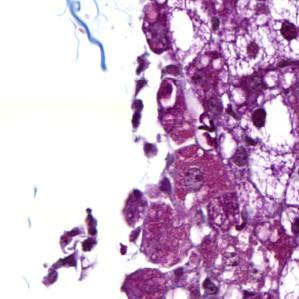ballooning: (221, 15, 297, 79), (238, 93, 296, 156)
